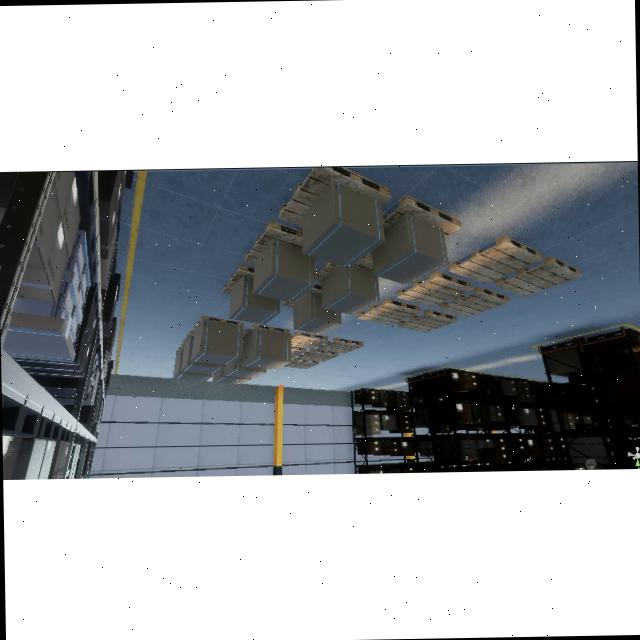wooden_pallet: (277, 166, 392, 227), (449, 235, 542, 284), (495, 255, 581, 297), (382, 196, 461, 238), (396, 271, 473, 306), (244, 220, 303, 264), (437, 286, 509, 317), (357, 297, 420, 325), (398, 308, 458, 332), (221, 263, 254, 295), (192, 316, 244, 333), (318, 337, 363, 354), (242, 324, 290, 339), (290, 331, 328, 349), (297, 348, 338, 362), (281, 358, 319, 369), (291, 346, 306, 358)
